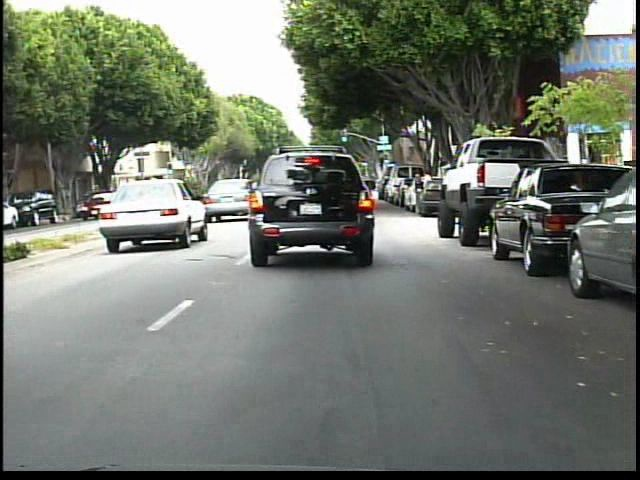person: (411, 170, 425, 219), (419, 167, 434, 208)
